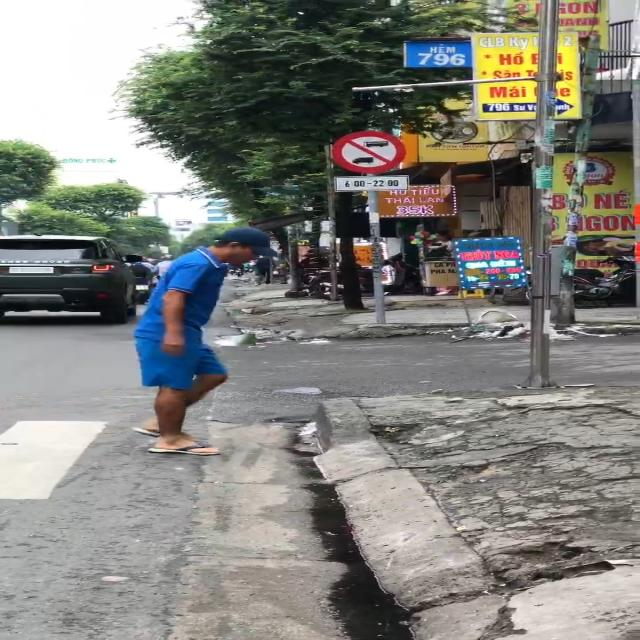Bien bao cam xe oto khach va xe oto tai: (327, 126, 408, 176)
